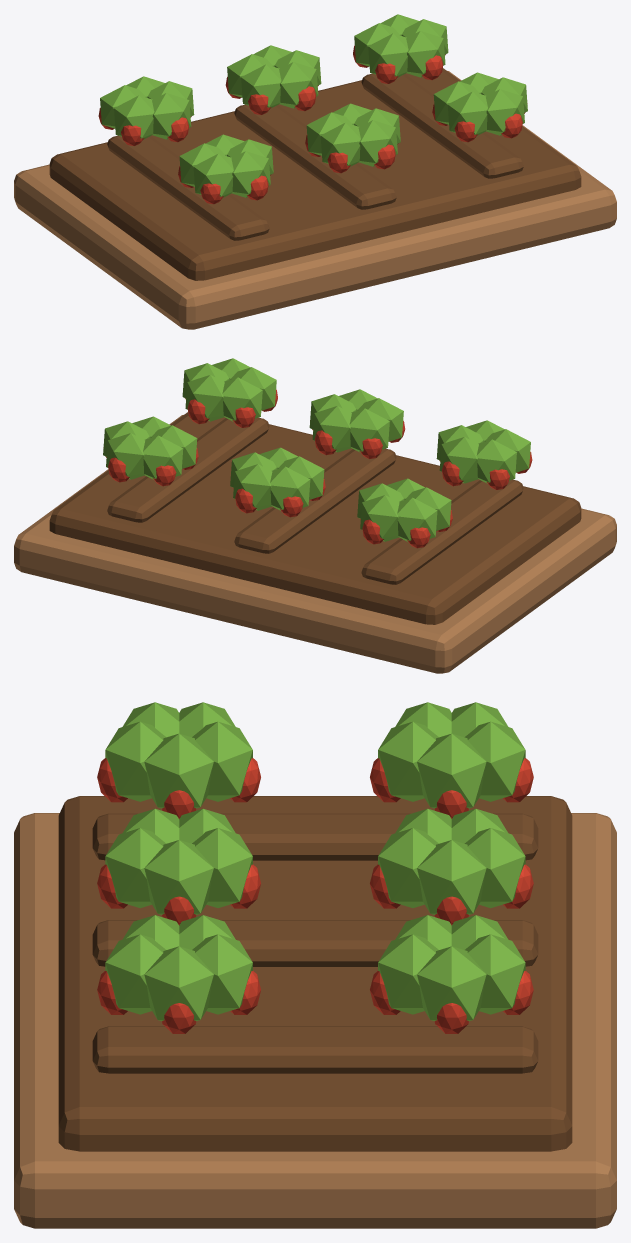
The model's file is plot-strawberry.glb.
3 renders of one model, top to bottom at view 1: azimuth 30°, elevation 25°; view 2: azimuth 150°, elevation 25°; view 3: azimuth 270°, elevation 25°, orthographic. The views are drawn at different scales.
Parts seen in each view (by area): view 1: plot_soil, plot_border, plot_ridge, plot_ridge.001, plot_ridge.002, crop_foliage.008, crop_foliage.018, crop_foliage.013, crop_foliage.028, crop_foliage.003, crop_foliage.029, crop_foliage.009 (+17 smaller); view 2: plot_soil, plot_border, plot_ridge, plot_ridge.001, plot_ridge.002, crop_foliage.002, crop_foliage.012, crop_foliage.017, crop_foliage.022, crop_foliage.007, crop_foliage.021, crop_foliage.001 (+17 smaller); view 3: plot_soil, plot_border, plot_ridge.002, plot_ridge, plot_ridge.001, crop_foliage, crop_foliage.005, crop_foliage.020, crop_foliage.025, crop_foliage.010, crop_foliage.015, crop_foliage.004 (+25 smaller).
Part boxes in pixels (x1,y1,x2,y2): plot_soil: (49,68,581,280); plot_border: (14,71,616,329); plot_ridge: (107,135,269,240); plot_ridge.001: (234,104,396,209); plot_ridge.002: (361,73,523,178); crop_foliage.008: (114,95,154,139); crop_foliage.018: (241,64,281,108); crop_foliage.013: (320,122,360,166); crop_foliage.028: (368,33,408,77); crop_foliage.003: (193,153,233,197); crop_foliage.029: (406,31,445,77); crop_foliage.009: (152,93,191,139); plot_soil: (49,412,581,624); plot_border: (14,415,616,673); plot_ridge: (361,479,523,584); plot_ridge.001: (234,448,396,553); plot_ridge.002: (107,417,269,522); crop_foliage.002: (476,439,516,483); crop_foliage.012: (349,408,389,452); crop_foliage.017: (270,466,310,510); crop_foliage.022: (222,377,262,421); crop_foliage.007: (397,497,437,541); crop_foliage.021: (185,375,224,421); crop_foliage.001: (439,437,478,483); plot_soil: (58,796,572,1151); plot_border: (14,813,616,1228); plot_ridge.002: (92,1026,538,1073); plot_ridge: (92,813,538,860); plot_ridge.001: (92,920,538,966); crop_foliage: (144,733,213,808); crop_foliage.005: (417,733,486,808); crop_foliage.020: (144,946,213,1021); crop_foliage.025: (417,946,486,1021); crop_foliage.010: (144,840,213,914); crop_foliage.015: (417,840,486,914); crop_foliage.004: (105,721,166,801).
Size of the model in its own units: 1.65 by 0.487 by 1.15.
